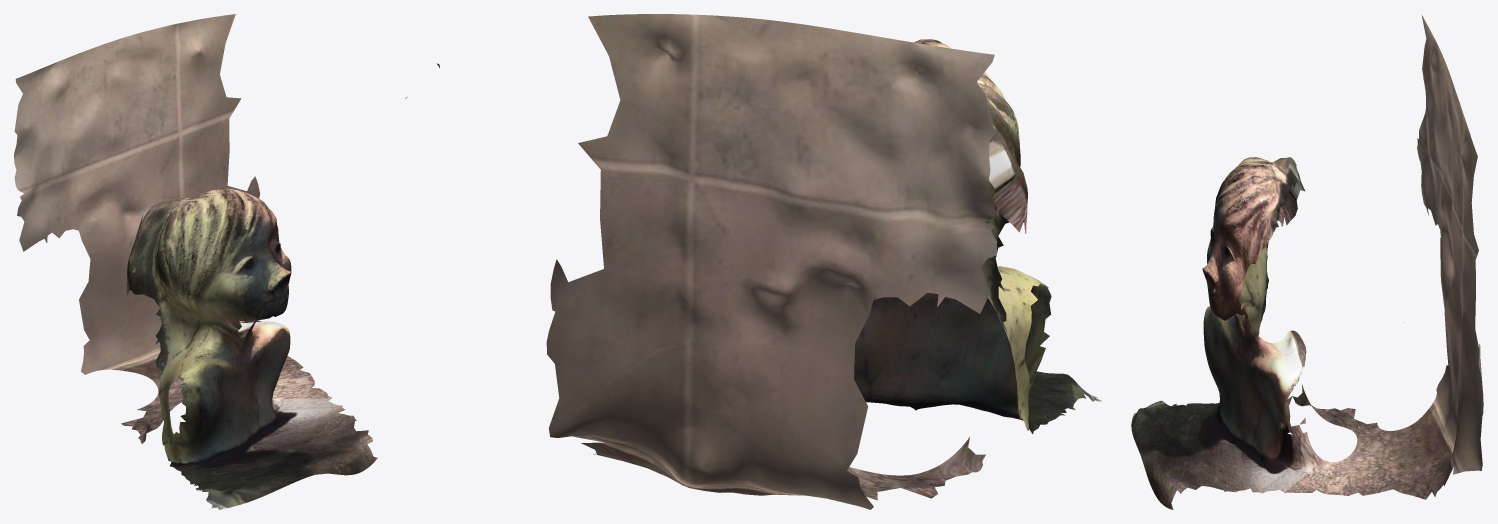
Rendered from krakerigeKop.obj.
The picture shows the model from 3 angles, left to right: view 1: azimuth 30°, elevation 25°; view 2: azimuth 150°, elevation 25°; view 3: azimuth 270°, elevation 25°; orthographic projection. The views are drawn at different scales.
Parts seen in each view (by area): view 1: krakerigeKop; view 2: krakerigeKop; view 3: krakerigeKop.
Part boxes in pixels (x1,y1,x2,y2): krakerigeKop: (14,14,406,509); krakerigeKop: (437,14,1101,509); krakerigeKop: (1131,15,1483,509).
Size of the model in its own units: 25.52 by 22.7 by 19.23.
1 material, 1 textured.
